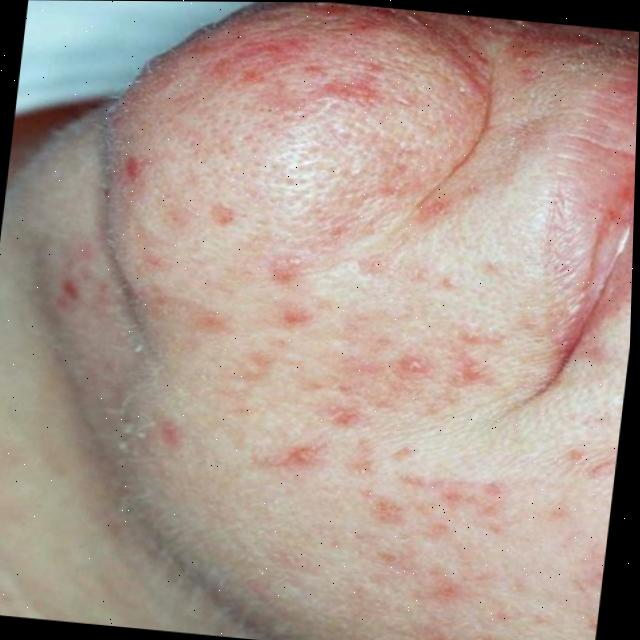Rosacea: (20, 14, 640, 640)
